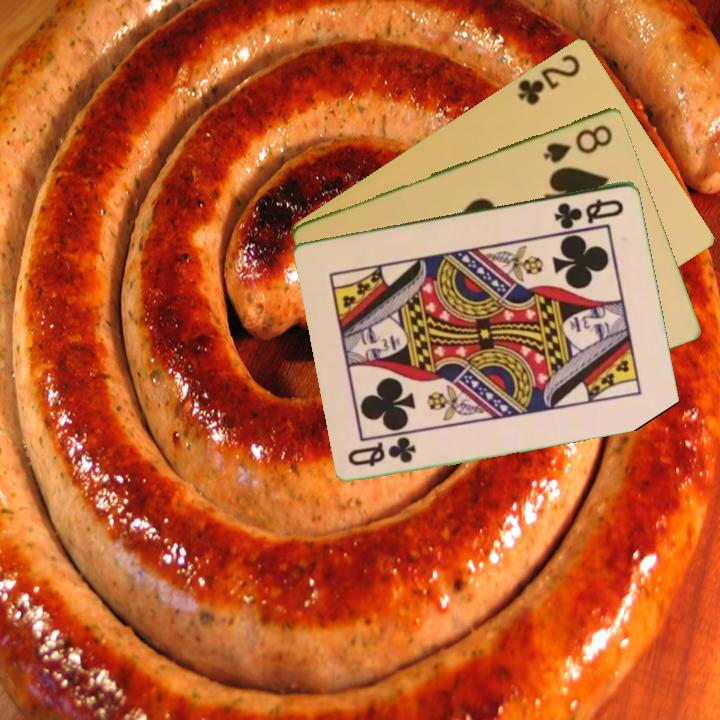2c: (514, 50, 584, 108)
8s: (539, 120, 616, 166)
Qc: (551, 195, 627, 231), (344, 434, 419, 469)
